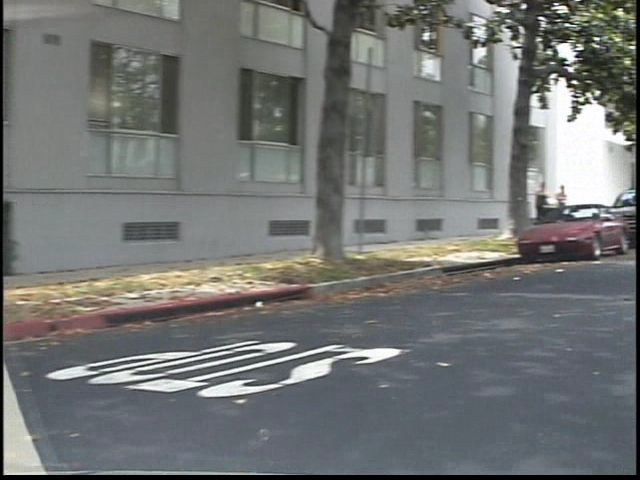person: (545, 177, 568, 239), (564, 183, 589, 235)
